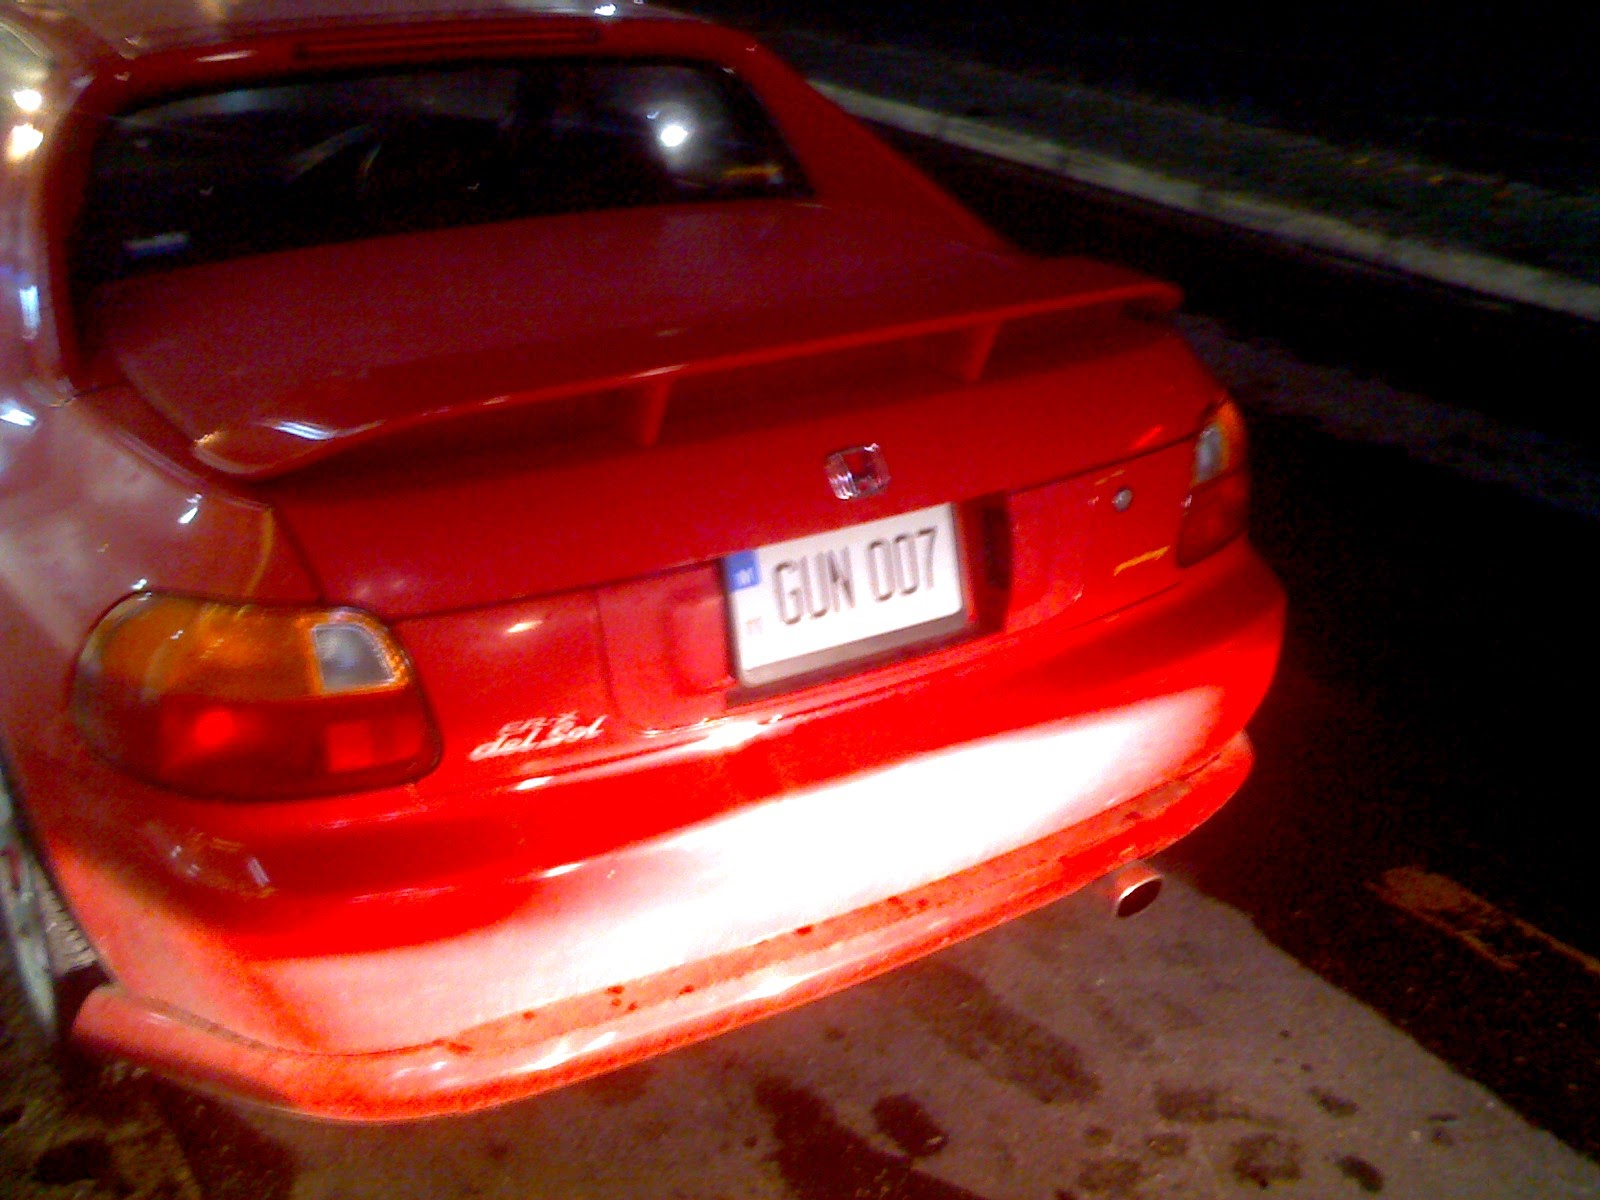car: (4, 0, 1519, 1192)
